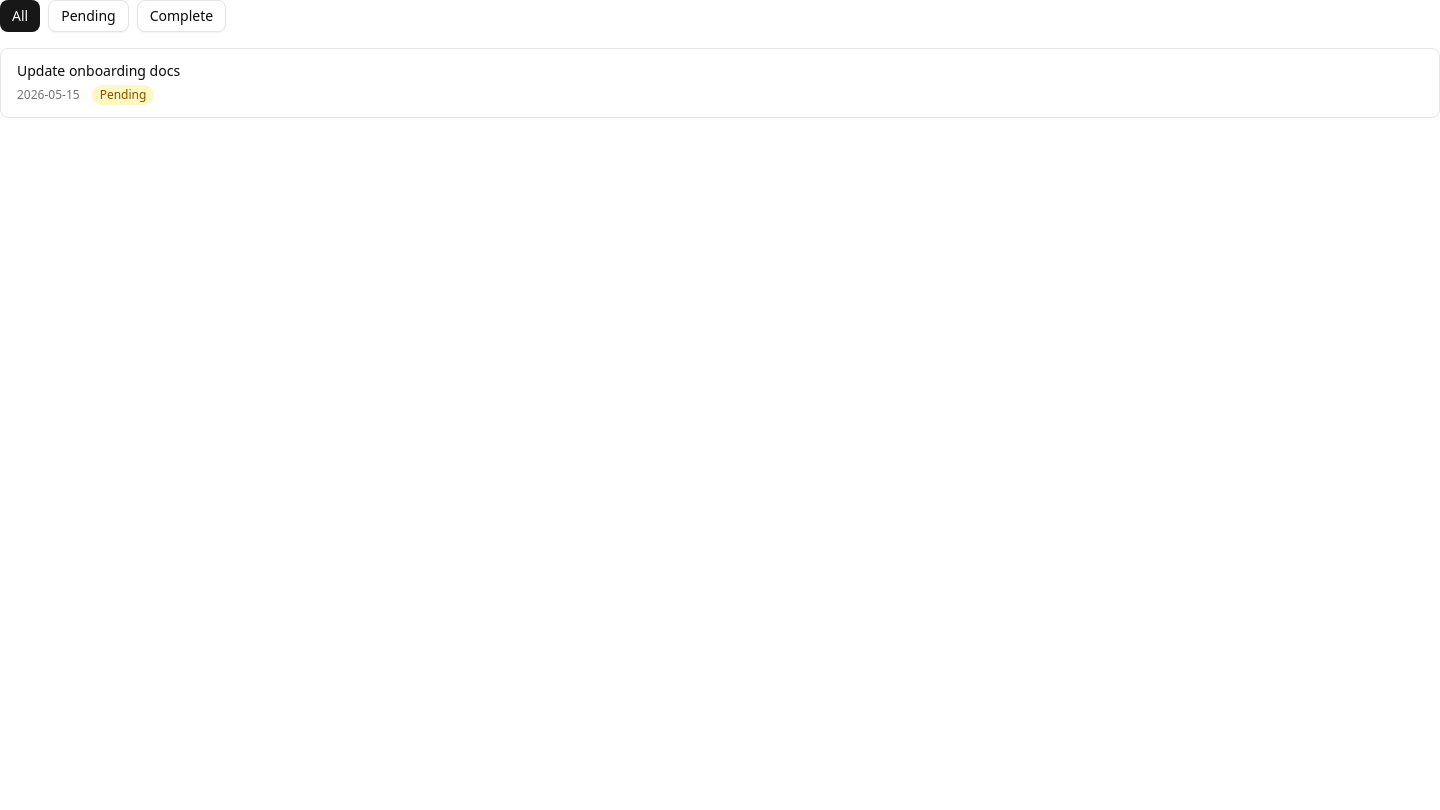
Test: AC-1: Clicking a task row opens the modal overlay › AC-1: clicking a task row opens a modal overlay
The image size is (1440, 810).
Step 1. Click the text "Update onboarding docs" → click(99, 70), box top-left (17, 61), bottom-right (180, 80)
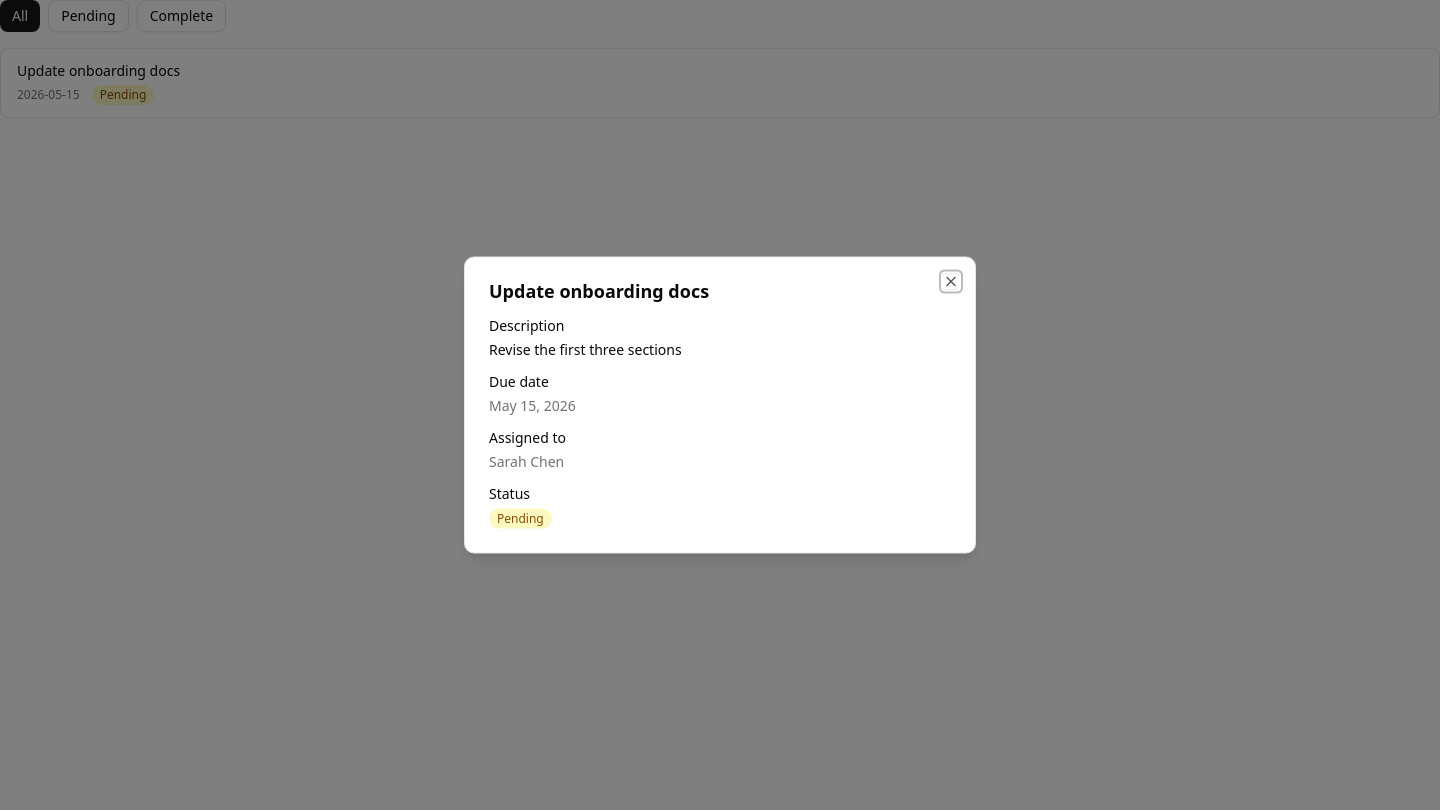
Expected: the dialog is shown, top-left (464, 256), bottom-right (976, 554)
